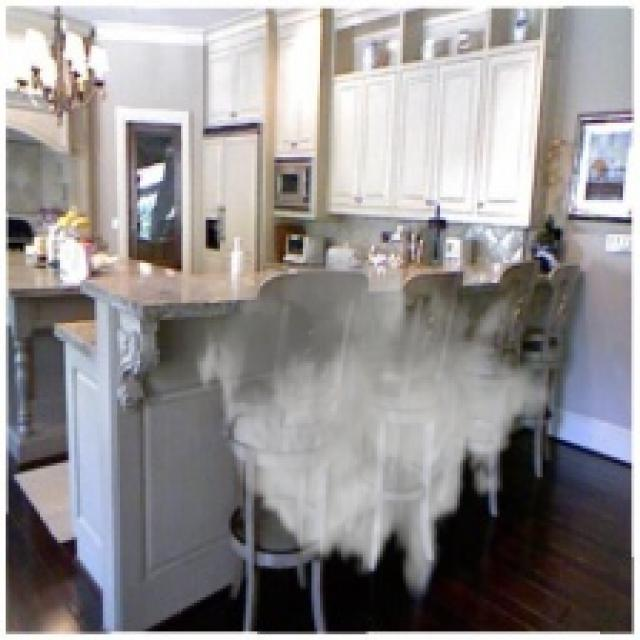smoke: (192, 226, 554, 603)
